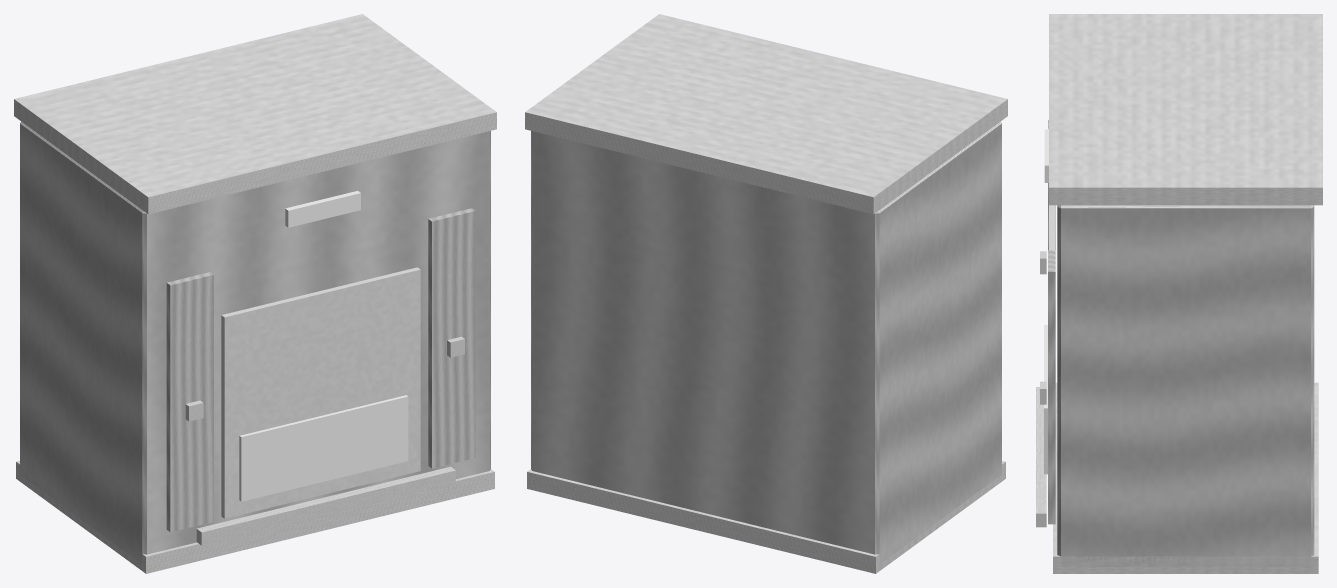
File: cornerfireplacestand.obj
3 renders of one model, left to right at view 1: azimuth 30°, elevation 25°; view 2: azimuth 150°, elevation 25°; view 3: azimuth 270°, elevation 25°, orthographic. The views are drawn at different scales.
Visible parts, largest first — view 1: Case, Trim, Black, Wood, Heat, Display; view 2: Case, Trim; view 3: Case, Trim, Wood, Heat.
Boxes of the visible parts, left/top/right/bottom form: Case: left=20, top=121, right=490, bottom=563; Trim: left=14, top=14, right=496, bottom=573; Black: left=221, top=267, right=420, bottom=518; Wood: left=166, top=208, right=475, bottom=532; Heat: left=239, top=395, right=408, bottom=501; Display: left=285, top=191, right=360, bottom=227; Case: left=531, top=121, right=1001, bottom=563; Trim: left=525, top=14, right=1007, bottom=573; Case: left=1057, top=205, right=1314, bottom=566; Trim: left=1036, top=14, right=1322, bottom=573; Wood: left=1048, top=120, right=1055, bottom=524; Heat: left=1044, top=325, right=1047, bottom=474.
Size of the model in its own units: 0.96 by 0.995 by 0.67.
